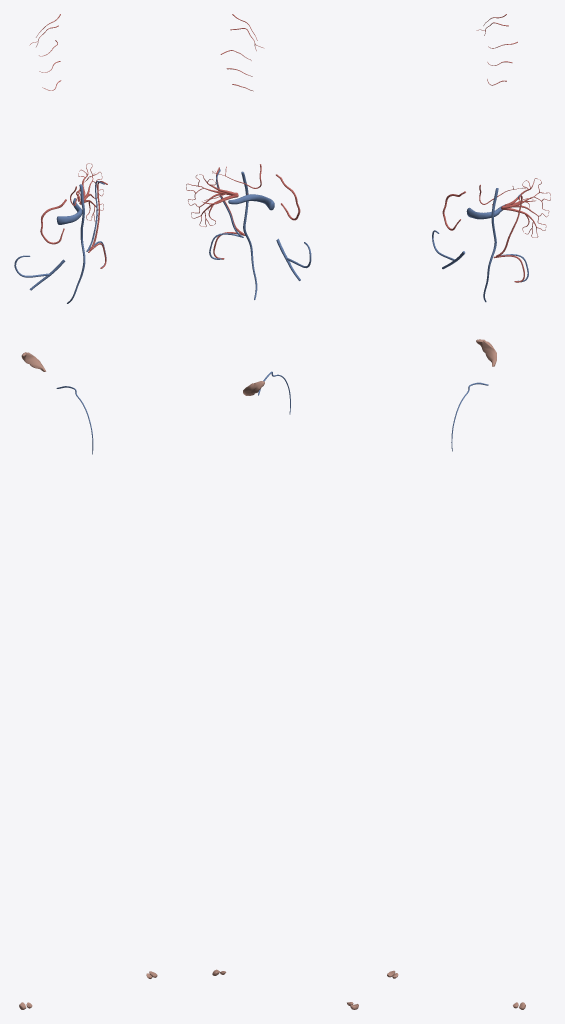
The model's file is other-38.glb.
3 renders of one model, left to right at view 1: azimuth 30°, elevation 25°; view 2: azimuth 150°, elevation 25°; view 3: azimuth 330°, elevation 25°, orthographic. The views are drawn at different scales.
Size of the model in its own units: 0.2062 by 1.37 by 0.1359.
